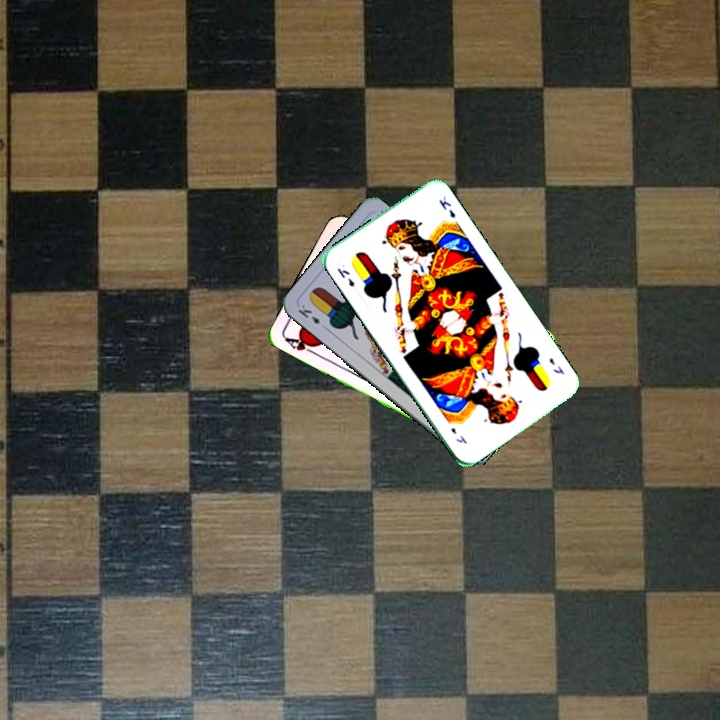EK: (294, 300, 330, 332), (333, 264, 357, 289), (545, 353, 567, 377)
HA: (280, 332, 321, 357)
